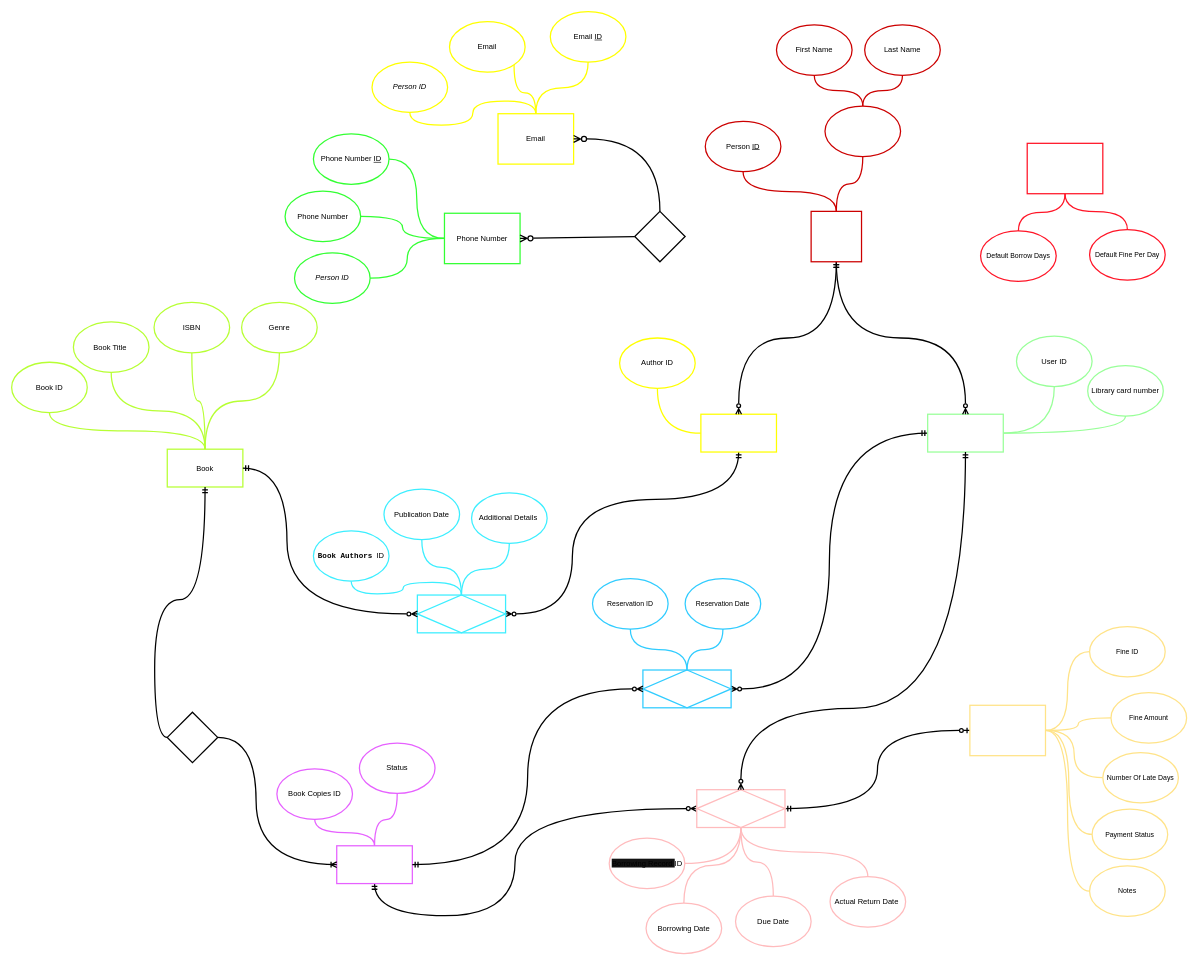
This 1198x965 diagram has some shape labels left out. Each missing label, with the centre of its shape:
"Author" goes at point (738, 432).
"Book Authors" goes at point (461, 613).
"Book Copies" goes at point (374, 864).
"Borrowing Record" goes at point (740, 808).
"Copied" goes at point (192, 737).
"Fine" goes at point (1007, 730).
"Has" goes at point (659, 236).
"Name" goes at point (862, 131).
"Person" goes at point (836, 236).
"Reservation" goes at point (686, 688).
"Settings" goes at point (1064, 168).
"User" goes at point (965, 432).
